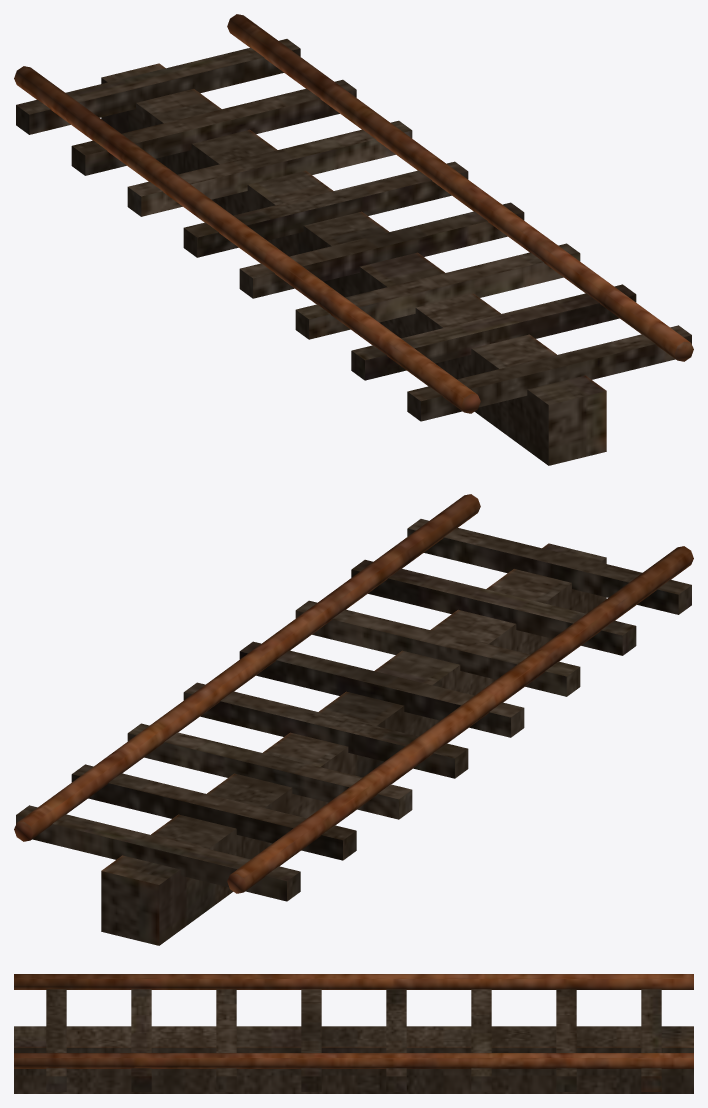
File: coaster_track.glb
3 views of the same model, one above another, from view 1: azimuth 30°, elevation 25°; view 2: azimuth 150°, elevation 25°; view 3: azimuth 270°, elevation 25° (orthographic). The views are drawn at different scales.
Parts seen in each view (by area): view 1: Main; view 2: Main; view 3: Main.
Boxes of the visible parts, box(x1,y1,x2,y2) form: Main: box(14, 14, 693, 465); Main: box(14, 494, 693, 945); Main: box(14, 974, 693, 1093).
Size of the model in its own units: 1.4 by 0.45 by 4.
1 material, 1 textured.
